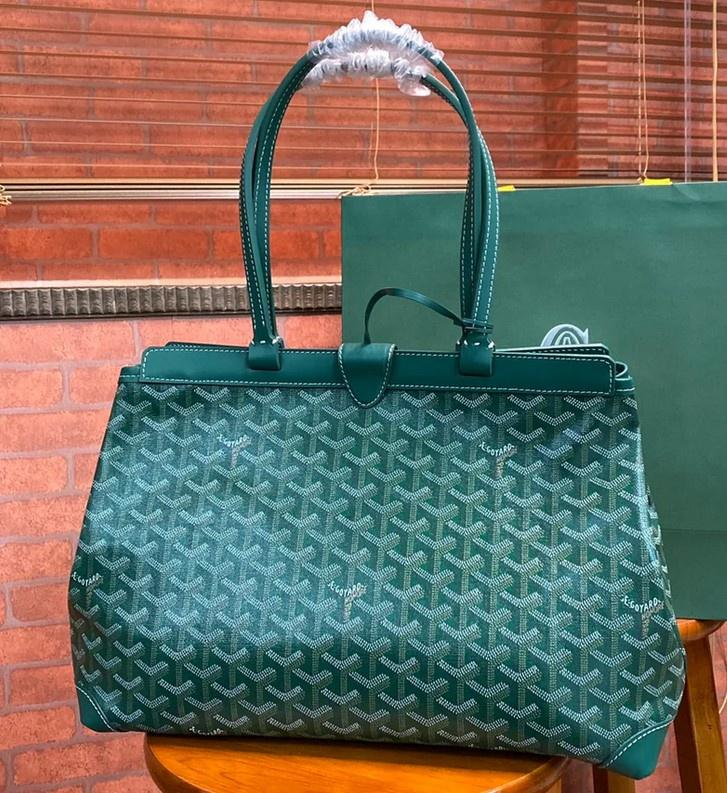GOYARD: (67, 381, 688, 764)
